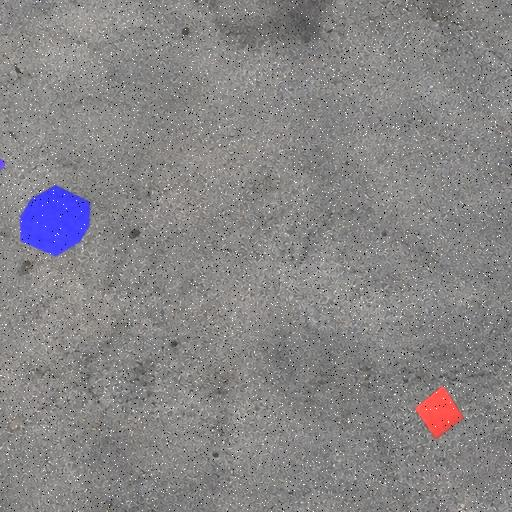RED_SQUARE: (414, 385, 464, 440)
